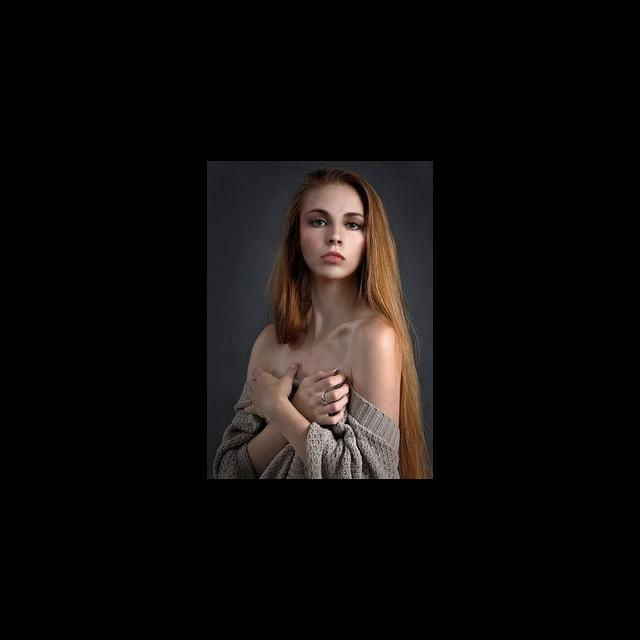female: (275, 161, 406, 293)
